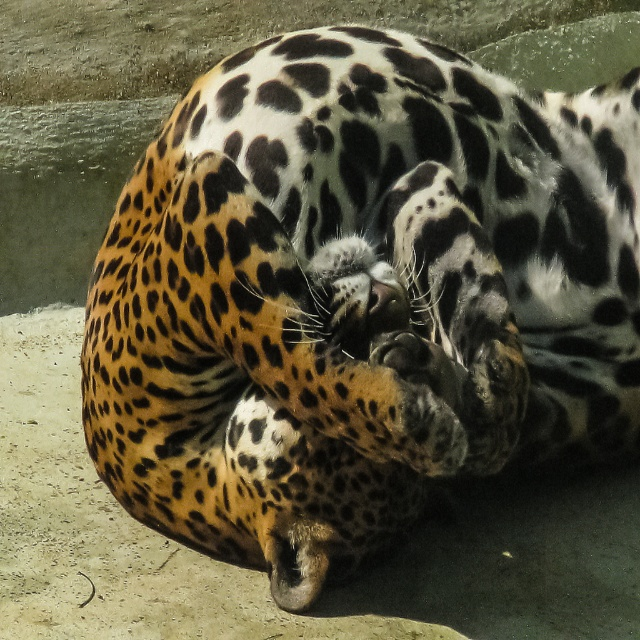Jaguar: (77, 25, 640, 612)
